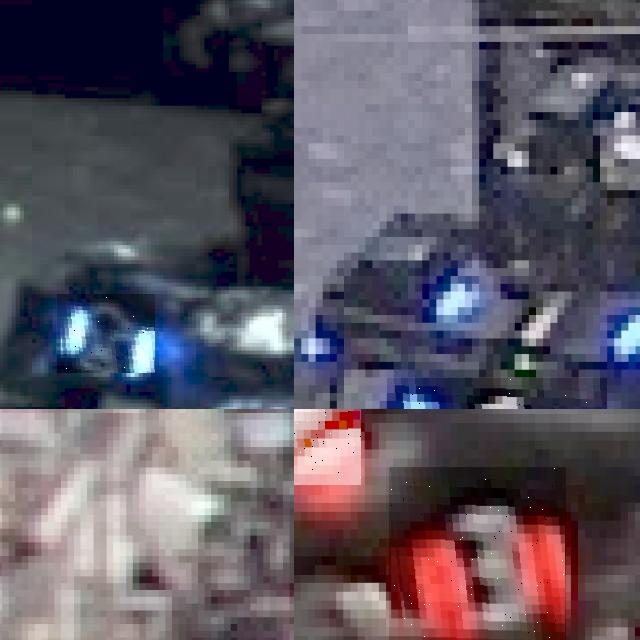B1: (386, 377, 607, 409)
Bs: (57, 294, 155, 373)
R3: (389, 467, 567, 640)
